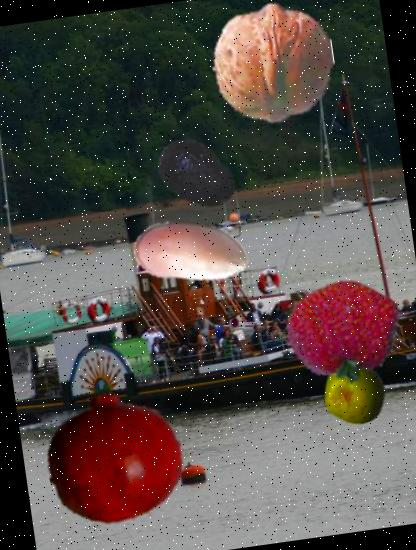Avocado: (150, 128, 244, 223)
Hazelnut: (124, 186, 258, 320)
Pomegranate: (38, 381, 192, 535)
Pomelo: (319, 356, 392, 430)
Strawberry: (282, 264, 413, 396)
Walnut: (204, 0, 343, 133)
